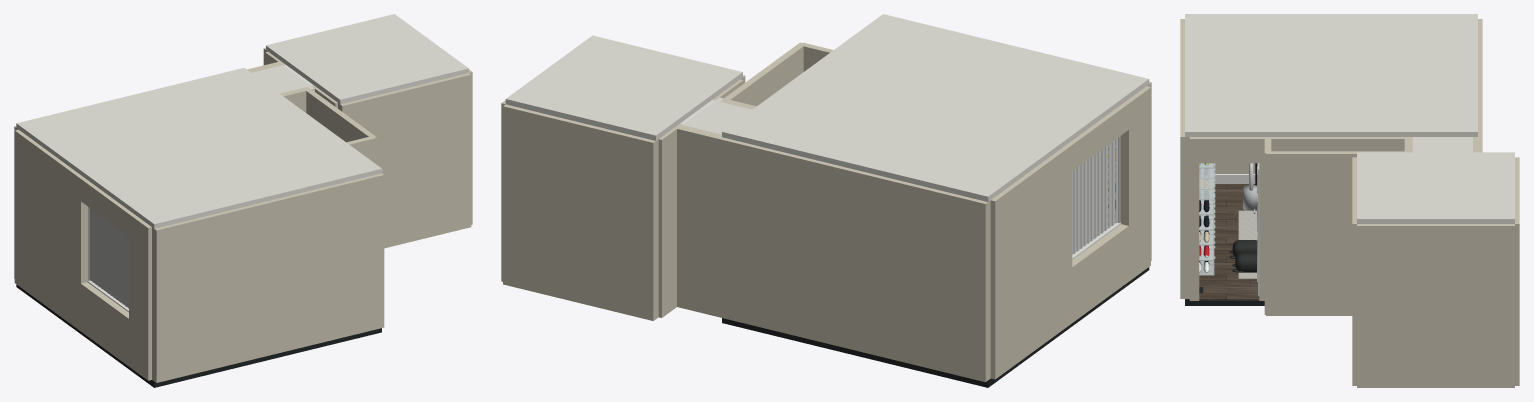
The model's file is room-cat-furniture.glb.
The picture shows the model from 3 angles, left to right: view 1: azimuth 30°, elevation 25°; view 2: azimuth 150°, elevation 25°; view 3: azimuth 270°, elevation 25°; orthographic projection. The views are drawn at different scales.
Visible parts, largest first — view 1: South wall, Bedroom ceiling, Bathroom South wall, Bathroom ceiling, West below window, West window north return, West above window, Window blinds, West window south return, Bedroom subfloor, Closet back wall, Passage lowered soffit (+1 smaller); view 2: North wall, Bedroom ceiling, Bathroom North wall, Bathroom ceiling, West below window, Bathroom passage north wall, West window north return, West above window, Window blinds, Bathroom West upper wall, West window south return, Bedroom subfloor (+2 smaller); view 3: Bedroom ceiling, Bathroom East wall, Closet back wall, Bathroom ceiling, Bedroom floorboards, South wall, East closet upper wall, East entrance lintel, East entrance south jamb, Sneaker shelves, Bathroom North wall, Bathroom South wall (+12 smaller).
Part boxes in pixels (left/top/right/bottom): South wall: left=152, top=173, right=384, bottom=382; Bedroom ceiling: left=16, top=68, right=381, bottom=228; Bathroom South wall: left=338, top=73, right=471, bottom=248; Bathroom ceiling: left=266, top=14, right=468, bottom=104; West below window: left=14, top=235, right=151, bottom=380; West window north return: left=14, top=153, right=87, bottom=283; West above window: left=14, top=129, right=151, bottom=250; Window blinds: left=89, top=208, right=128, bottom=308; West window south return: left=129, top=237, right=151, bottom=332; Bedroom subfloor: left=16, top=284, right=381, bottom=387; Closet back wall: left=305, top=88, right=376, bottom=164; Passage lowered soffit: left=251, top=65, right=314, bottom=93; North wall: left=719, top=139, right=990, bottom=382; Bedroom ceiling: left=722, top=14, right=1149, bottom=201; Bathroom North wall: left=503, top=104, right=658, bottom=320; Bathroom ceiling: left=505, top=35, right=742, bottom=140; West below window: left=990, top=210, right=1150, bottom=379; Bathroom passage north wall: left=674, top=124, right=729, bottom=317; West window north return: left=990, top=171, right=1072, bottom=323; West above window: left=990, top=86, right=1150, bottom=227; Window blinds: left=1072, top=138, right=1117, bottom=254; Bathroom West upper wall: left=658, top=123, right=682, bottom=317; West window south return: left=1120, top=114, right=1150, bottom=225; Bedroom subfloor: left=722, top=267, right=1149, bottom=387; Bedroom ceiling: left=1185, top=14, right=1477, bottom=136; Bathroom East wall: left=1357, top=224, right=1514, bottom=387; Closet back wall: left=1266, top=151, right=1404, bottom=315; Bathroom ceiling: left=1357, top=152, right=1514, bottom=223; Bedroom floorboards: left=1199, top=184, right=1259, bottom=300; South wall: left=1180, top=19, right=1189, bottom=298; East closet upper wall: left=1257, top=137, right=1404, bottom=162; East entrance lintel: left=1194, top=137, right=1264, bottom=163; East entrance south jamb: left=1189, top=137, right=1199, bottom=300; Sneaker shelves: left=1199, top=163, right=1214, bottom=275; Bathroom North wall: left=1515, top=157, right=1519, bottom=385; Bathroom South wall: left=1352, top=157, right=1356, bottom=385.
Bounding box in the file's own units: 7.33 × 2.84 × 5.03.
51 materials, 17 textured.
